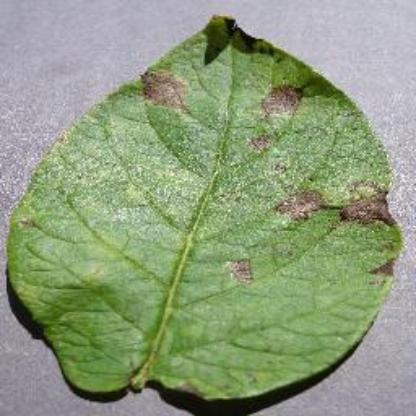Early-Blight: (7, 11, 401, 403)
